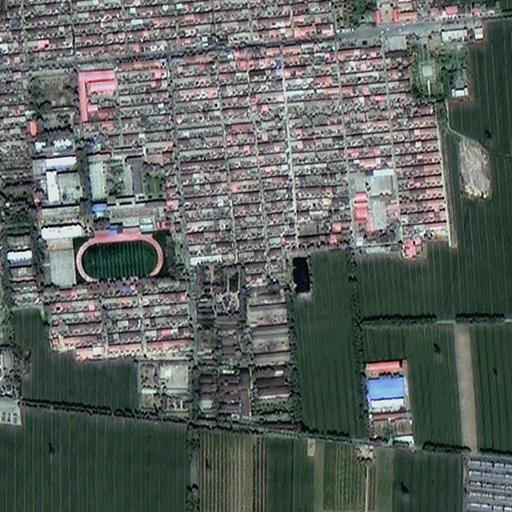school: (33, 154, 178, 284)
